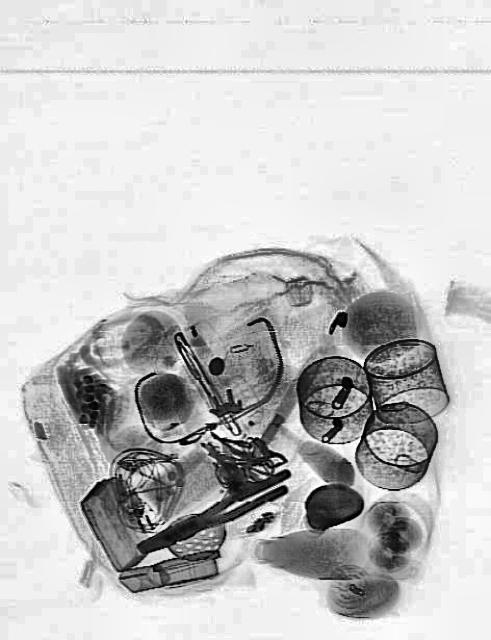Pliers: (132, 460, 296, 562)
